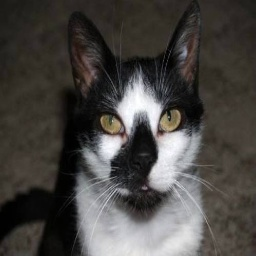cat: (45, 2, 210, 256)
